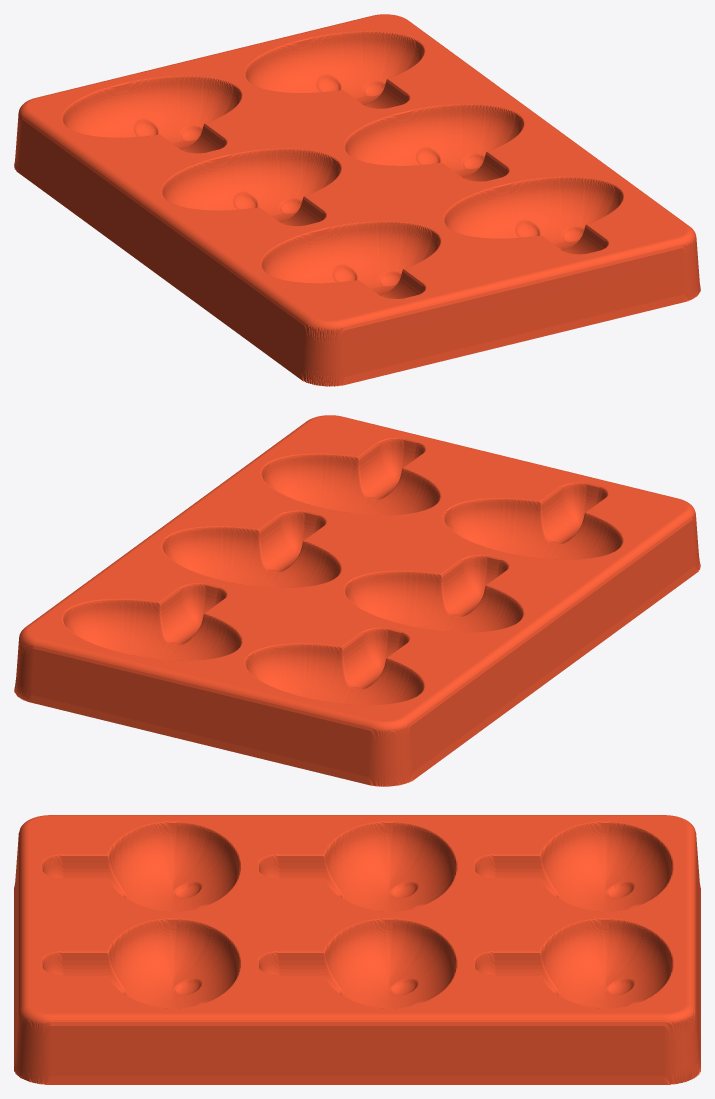
The model's file is mold.glb.
3 views of the same model, one above another, from view 1: azimuth 30°, elevation 25°; view 2: azimuth 150°, elevation 25°; view 3: azimuth 270°, elevation 25° (orthographic). The views are drawn at different scales.
Visible parts, largest first — view 1: geometry_0; view 2: geometry_0; view 3: geometry_0.
Part boxes in pixels (box(x1,y1,x2,y2)): geometry_0: box(14, 14, 700, 386); geometry_0: box(14, 415, 700, 786); geometry_0: box(14, 815, 700, 1084).
Bounding box in the file's own units: 0.1211 × 0.0175 × 0.1674.
